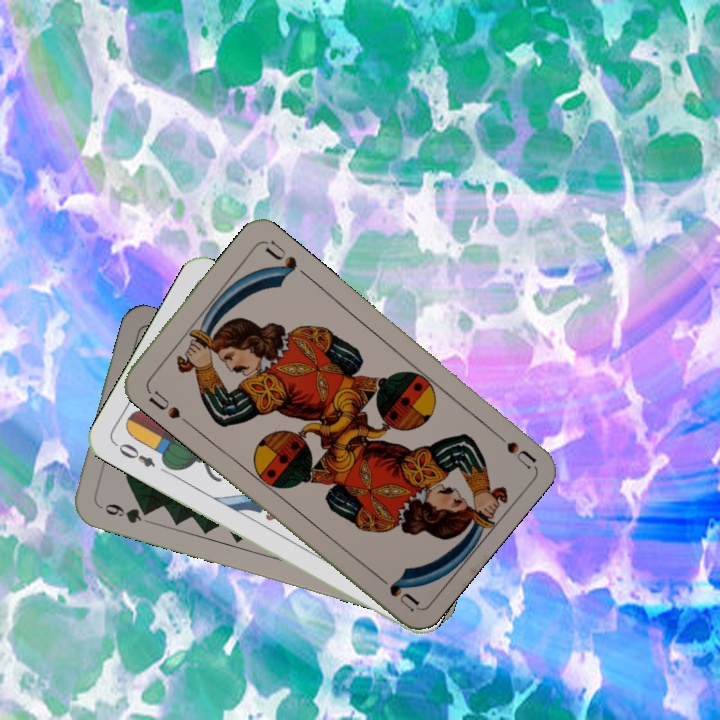EO: (110, 438, 158, 470)
G9: (93, 499, 153, 526)
SU: (486, 424, 537, 471), (142, 383, 183, 422)
